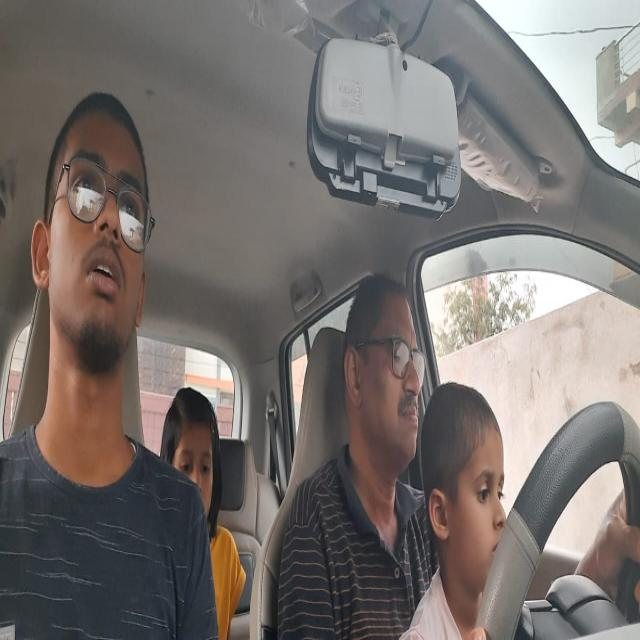child: (421, 380, 507, 586)
person: (33, 91, 158, 388), (343, 259, 423, 471), (161, 375, 225, 549)
